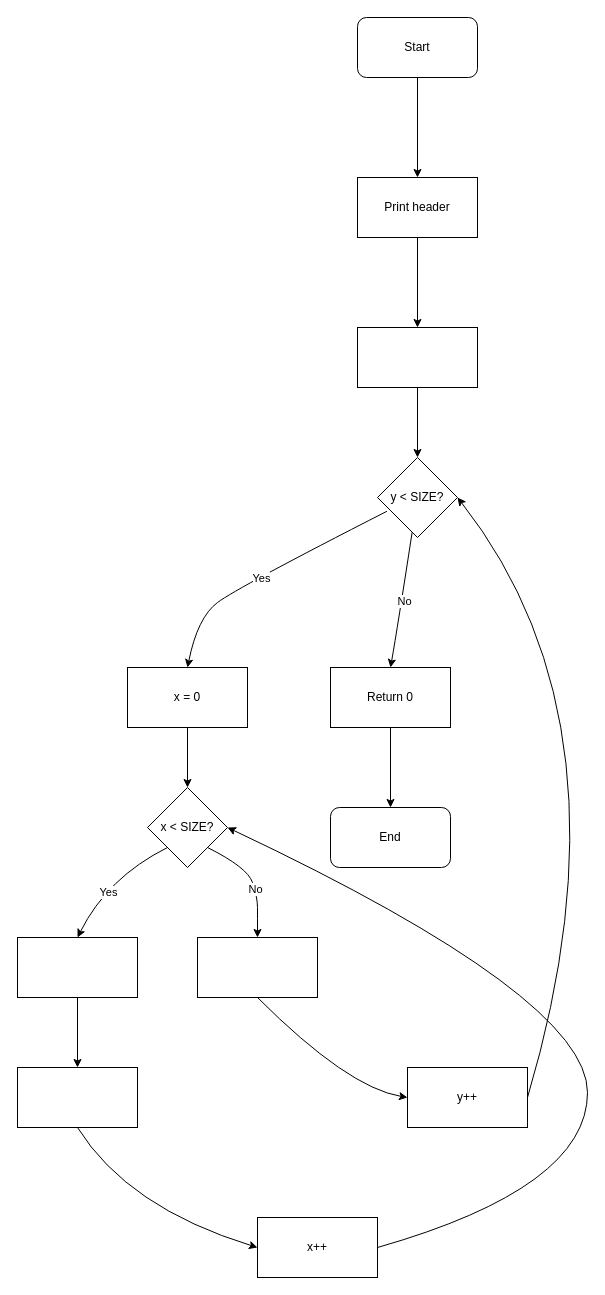
Image size: 605x1295. Some labels were removed from this diagram. Each missing label, with the box of its shape:
Call tour x,y: (16, 936, 138, 998)
Print newline: (196, 936, 318, 998)
Print result: (16, 1066, 138, 1128)
y = 0: (356, 326, 478, 388)
